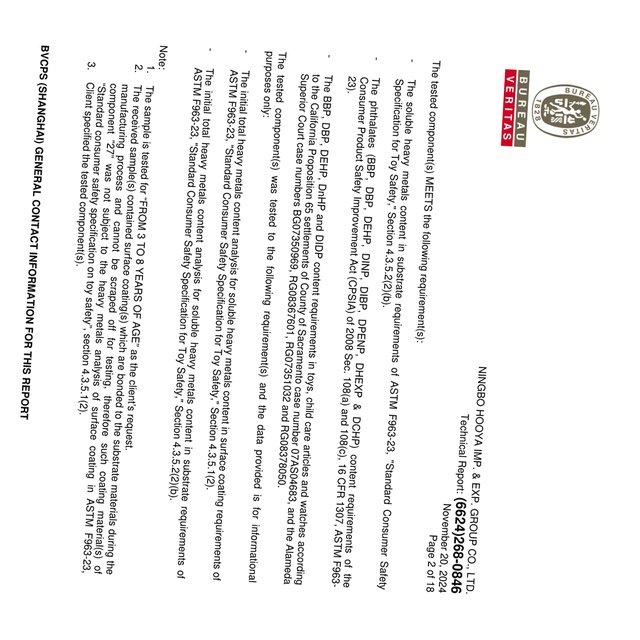bureau_veritas: (496, 66, 604, 155)
